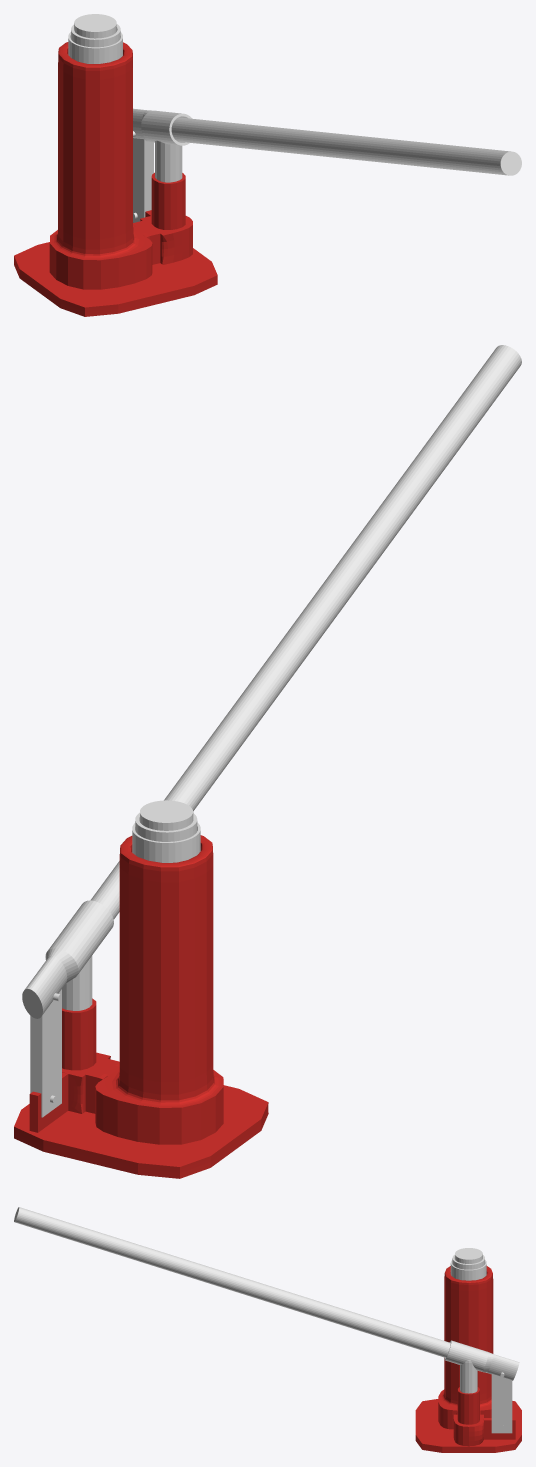
File: dongkrak.fbx
The picture shows the model from 3 angles, top to bottom: view 1: azimuth 30°, elevation 25°; view 2: azimuth 150°, elevation 25°; view 3: azimuth 270°, elevation 25°; orthographic projection. The views are drawn at different scales.
Parts seen in each view (by area): view 1: Cube, Cylinder.003, Cube.002, Cylinder.001, Cube.001, Cylinder.004, Cylinder.006, Cylinder.005; view 2: Cube, Cylinder.003, Cylinder.001, Cube.002, Cylinder.004, Cylinder.006, Cube.001; view 3: Cube, Cylinder.003, Cylinder.001, Cube.002, Cube.001, Cylinder.004, Cylinder.006.
Boxes of the visible parts, x1,y1,x2,y2 form: Cube: [14, 42, 217, 316]; Cylinder.003: [171, 117, 521, 175]; Cube.002: [133, 138, 153, 222]; Cylinder.001: [133, 108, 191, 145]; Cube.001: [155, 140, 182, 182]; Cylinder.004: [68, 32, 122, 63]; Cylinder.006: [74, 14, 116, 38]; Cylinder.005: [71, 24, 120, 47]; Cube: [14, 835, 268, 1178]; Cylinder.003: [91, 345, 521, 919]; Cylinder.001: [22, 900, 113, 1018]; Cube.002: [30, 989, 61, 1117]; Cylinder.004: [132, 822, 200, 862]; Cylinder.006: [140, 800, 193, 830]; Cube.001: [62, 955, 92, 1010]; Cube: [415, 1266, 521, 1452]; Cylinder.003: [14, 1207, 450, 1357]; Cylinder.001: [444, 1340, 519, 1380]; Cube.002: [491, 1374, 512, 1433]; Cube.001: [460, 1360, 477, 1393]; Cylinder.004: [450, 1260, 486, 1280]; Cylinder.006: [455, 1248, 482, 1263].
Size of the model in its own units: 442 by 1006 by 1953.
